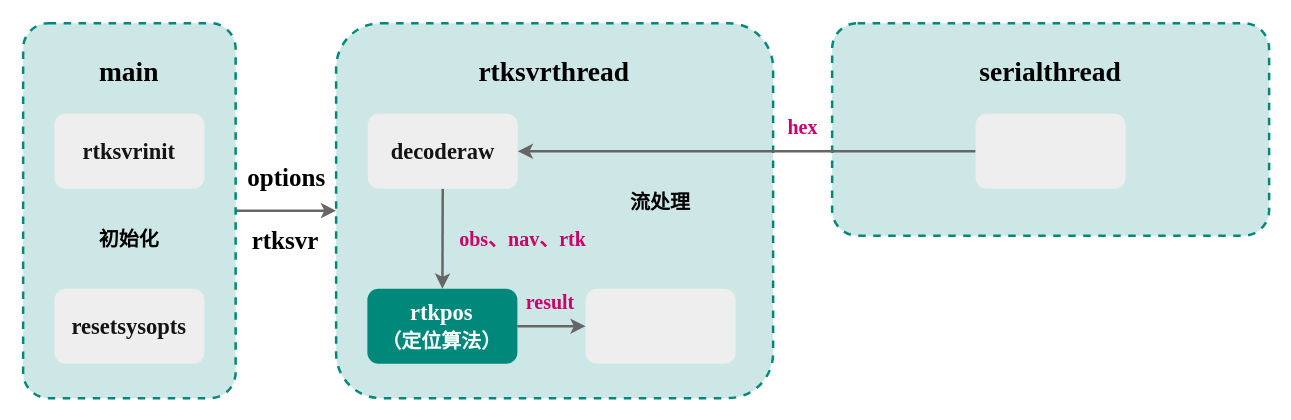
Some shapes in this 1291 by 420 pixel diagram are drawn without their labels. Each missing label, with the box of its shape:
strread: (975, 113, 1125, 188)
writesol: (585, 288, 735, 363)
